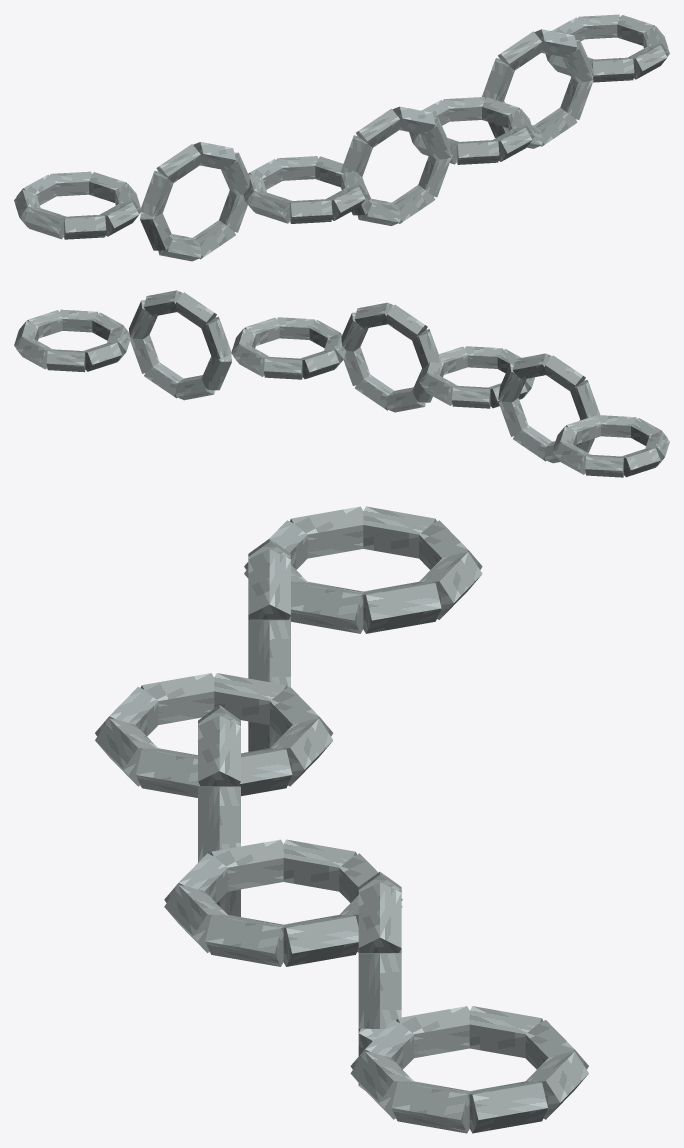
The model's file is chain.glb.
3 views of the same model, one above another, from view 1: azimuth 30°, elevation 25°; view 2: azimuth 150°, elevation 25°; view 3: azimuth 270°, elevation 25° (orthographic). The views are drawn at different scales.
Parts seen in each view (by area): view 1: block_iron loop6 (×7), block_iron loop1 (×7), block_iron loop2 (×6), block_iron loop7 (×7), block_iron loop5 (×7), block_iron loop0 (×7), block_iron loop4 (×5), block_iron loop3 (×3); view 2: block_iron loop5 (×7), block_iron loop1 (×7), block_iron loop6 (×7), block_iron loop4 (×7), block_iron loop0 (×7), block_iron loop7 (×7), block_iron loop2 (×6), block_iron loop3 (×5); view 3: block_iron loop7 (×7), block_iron loop6 (×6), block_iron loop0 (×4), block_iron loop3 (×4), block_iron loop4 (×4), block_iron loop1 (×3), block_iron loop5 (×4), block_iron loop2 (×4).
Boxes of the visible parts, x1,y1,x2,y2 form: block_iron loop6 (×7): (50,14,619,196); block_iron loop1 (×7): (99,44,667,259); block_iron loop2 (×6): (64,57,634,261); block_iron loop7 (×7): (89,15,655,202); block_iron loop5 (×7): (16,17,584,205); block_iron loop0 (×7): (115,26,669,232); block_iron loop4 (×5): (14,58,514,227); block_iron loop3 (×3): (24,192,292,250); block_iron loop5 (×7): (46,292,623,477); block_iron loop1 (×7): (60,309,636,461); block_iron loop6 (×7): (16,290,590,474); block_iron loop4 (×7): (83,316,660,477); block_iron loop0 (×7): (27,310,600,443); block_iron loop7 (×7): (14,300,576,453); block_iron loop2 (×6): (92,312,667,445); block_iron loop3 (×5): (107,326,669,466); block_iron loop7 (×7): (198,581,547,1133); block_iron loop6 (×6): (198,549,588,1119); block_iron loop0 (×4): (136,581,469,1133); block_iron loop3 (×4): (140,506,469,1058); block_iron loop4 (×4): (214,506,542,1058); block_iron loop1 (×3): (95,718,413,1119); block_iron loop5 (×4): (270,520,588,1069); block_iron loop2 (×4): (95,520,413,1069).
Size of the model in its own units: 0.2019 by 0.0339 by 0.0702.
Materials: 1 (1 with a texture image).
